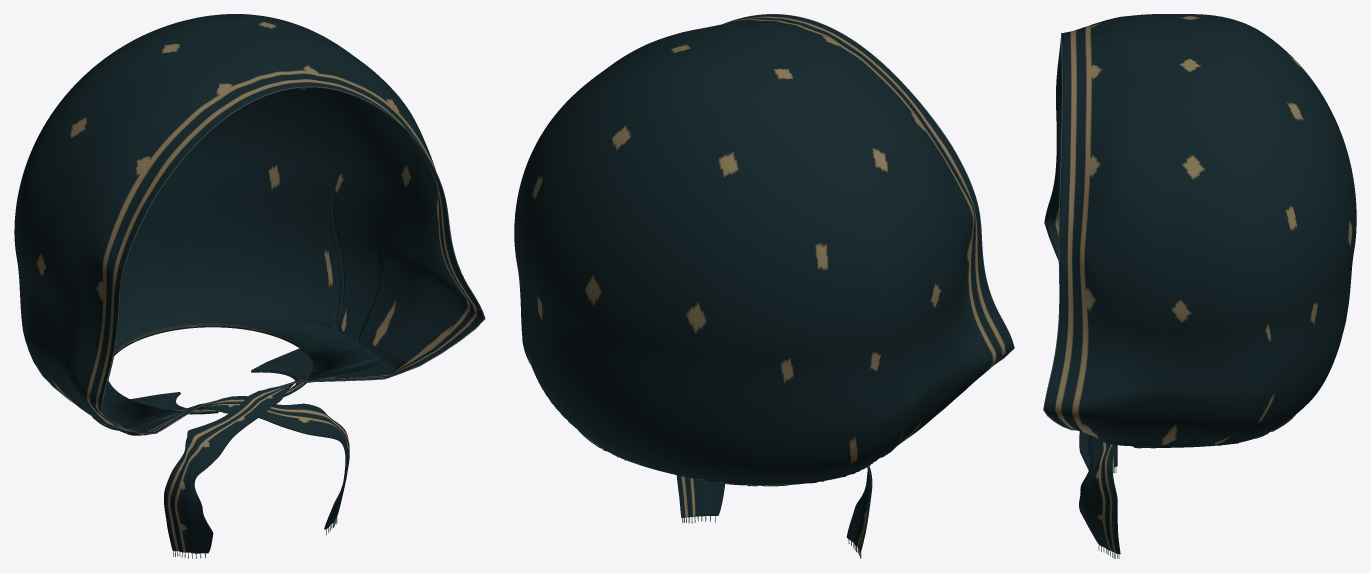
Rendered from Feminine-side-sweep-tank-pashmina250-headgear.glb.
3 renders of one model, left to right at view 1: azimuth 30°, elevation 25°; view 2: azimuth 150°, elevation 25°; view 3: azimuth 270°, elevation 25°, orthographic. The views are drawn at different scales.
Parts seen in each view (by area): view 1: 226 headgear / Headwear / continuous woven pashmina239, 226 headgear / Headwear / face edge239; view 2: 226 headgear / Headwear / continuous woven pashmina239, 226 headgear / Headwear / face edge239; view 3: 226 headgear / Headwear / continuous woven pashmina239, 226 headgear / Headwear / face edge239.
Part boxes in pixels (box(x1,y1,x2,y2)): 226 headgear / Headwear / continuous woven pashmina239: box(14, 14, 484, 553); 226 headgear / Headwear / face edge239: box(100, 86, 485, 433); 226 headgear / Headwear / continuous woven pashmina239: box(514, 14, 1013, 552); 226 headgear / Headwear / face edge239: box(723, 14, 1014, 364); 226 headgear / Headwear / continuous woven pashmina239: box(1044, 14, 1356, 554); 226 headgear / Headwear / face edge239: box(1043, 33, 1074, 430).
Bounding box in the file's own units: 1.15 × 1.39 × 0.8124.
Materials: 3 (1 with a texture image).
